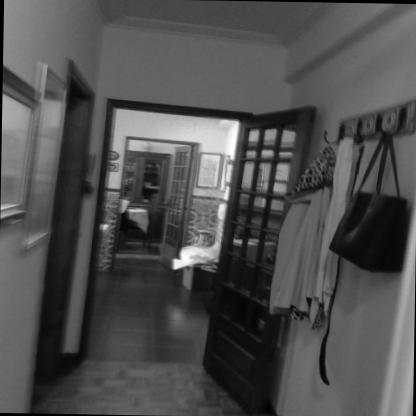open: (72, 83, 330, 408)
